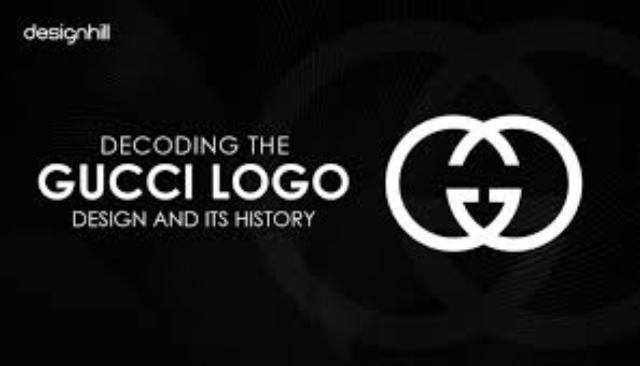Gucci: (370, 99, 596, 259)
